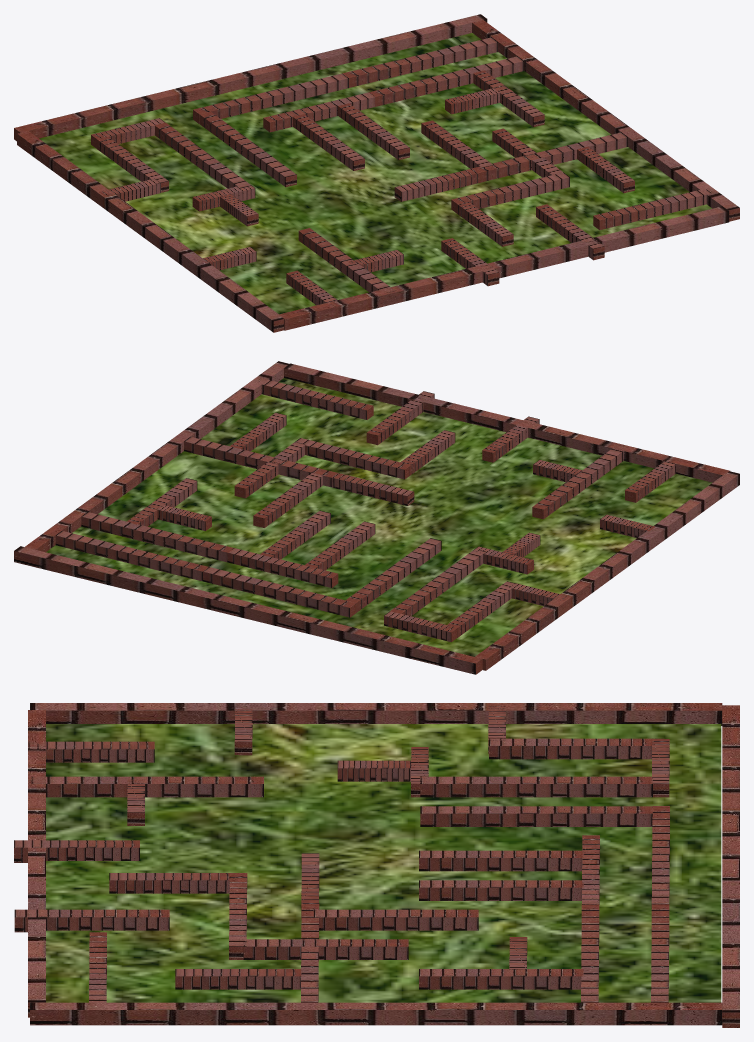
Rendered from maze1.obj.
The picture shows the model from 3 angles, top to bottom: view 1: azimuth 30°, elevation 25°; view 2: azimuth 150°, elevation 25°; view 3: azimuth 270°, elevation 25°; orthographic projection. The views are drawn at different scales.
Parts seen in each view (by area): view 1: Cube, Cube.002_Cube.007, Cube.005_Cube.007, Cube.003_Cube.007, Cube.001_Cube.007, Cube.004_Cube.007, Cube.006_Cube.007, Cube.008_Cube.007, Cube.012_Cube.007, Cube.007, Cube.014_Cube.007, Cube.022_Cube.007 (+22 smaller); view 2: Cube, Cube.005_Cube.007, Cube.002_Cube.007, Cube.003_Cube.007, Cube.001_Cube.007, Cube.006_Cube.007, Cube.004_Cube.007, Cube.008_Cube.007, Cube.012_Cube.007, Cube.014_Cube.007, Cube.030_Cube.007, Cube.007 (+22 smaller); view 3: Cube, Cube.001_Cube.007, Cube.003_Cube.007, Cube.005_Cube.007, Cube.022_Cube.007, Cube.002_Cube.007, Cube.007, Cube.030_Cube.007, Cube.021_Cube.007, Cube.024_Cube.007, Cube.017_Cube.007, Cube.019_Cube.007 (+22 smaller).
Part boxes in pixels (x1=…): Cube: x1=39, y1=33, x2=711, y2=314; Cube.002_Cube.007: x1=278, y1=206, x2=729, y2=330; Cube.005_Cube.007: x1=14, y1=14, x2=487, y2=141; Cube.003_Cube.007: x1=17, y1=131, x2=283, y2=332; Cube.001_Cube.007: x1=472, y1=20, x2=739, y2=221; Cube.004_Cube.007: x1=342, y1=37, x2=498, y2=87; Cube.006_Cube.007: x1=193, y1=73, x2=348, y2=123; Cube.008_Cube.007: x1=368, y1=56, x2=524, y2=106; Cube.012_Cube.007: x1=472, y1=132, x2=627, y2=181; Cube.007: x1=199, y1=111, x2=296, y2=187; Cube.014_Cube.007: x1=593, y1=189, x2=711, y2=230; Cube.022_Cube.007: x1=155, y1=122, x2=251, y2=188; Cube: x1=46, y1=378, x2=712, y2=656; Cube.005_Cube.007: x1=14, y1=546, x2=482, y2=674; Cube.002_Cube.007: x1=284, y1=363, x2=729, y2=482; Cube.003_Cube.007: x1=475, y1=471, x2=739, y2=670; Cube.001_Cube.007: x1=25, y1=361, x2=288, y2=552; Cube.006_Cube.007: x1=203, y1=567, x2=356, y2=617; Cube.004_Cube.007: x1=55, y1=531, x2=208, y2=581; Cube.008_Cube.007: x1=81, y1=512, x2=233, y2=562; Cube.012_Cube.007: x1=184, y1=436, x2=337, y2=487; Cube.014_Cube.007: x1=259, y1=380, x2=373, y2=419; Cube.030_Cube.007: x1=532, y1=445, x2=623, y2=519; Cube.007: x1=345, y1=538, x2=441, y2=612; Cube: x1=46, y1=724, x2=721, y2=1002; Cube.001_Cube.007: x1=30, y1=1002, x2=722, y2=1025; Cube.003_Cube.007: x1=30, y1=703, x2=722, y2=725; Cube.005_Cube.007: x1=722, y1=705, x2=739, y2=1027; Cube.022_Cube.007: x1=420, y1=776, x2=652, y2=797; Cube.002_Cube.007: x1=28, y1=710, x2=45, y2=1017; Cube.007: x1=420, y1=806, x2=652, y2=826; Cube.030_Cube.007: x1=31, y1=776, x2=263, y2=797; Cube.021_Cube.007: x1=419, y1=850, x2=583, y2=871; Cube.024_Cube.007: x1=489, y1=738, x2=653, y2=759; Cube.017_Cube.007: x1=313, y1=909, x2=478, y2=930; Cube.019_Cube.007: x1=419, y1=880, x2=583, y2=900.
Size of the model in its own units: 20.91 by 0.4809 by 20.73.
